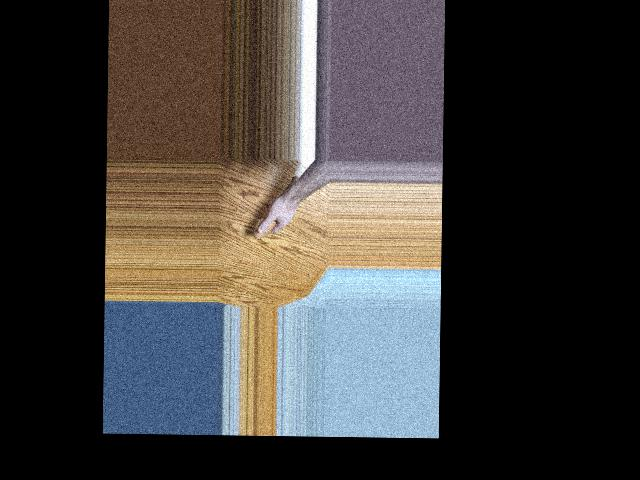sweet_potato: (253, 176, 297, 240)
